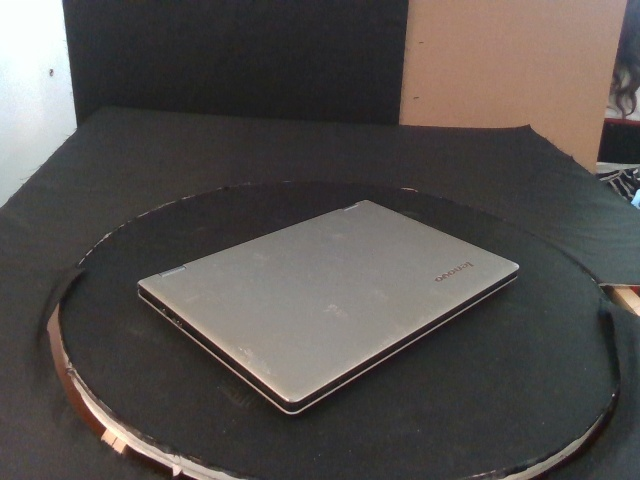laptop: (136, 199, 520, 417)
